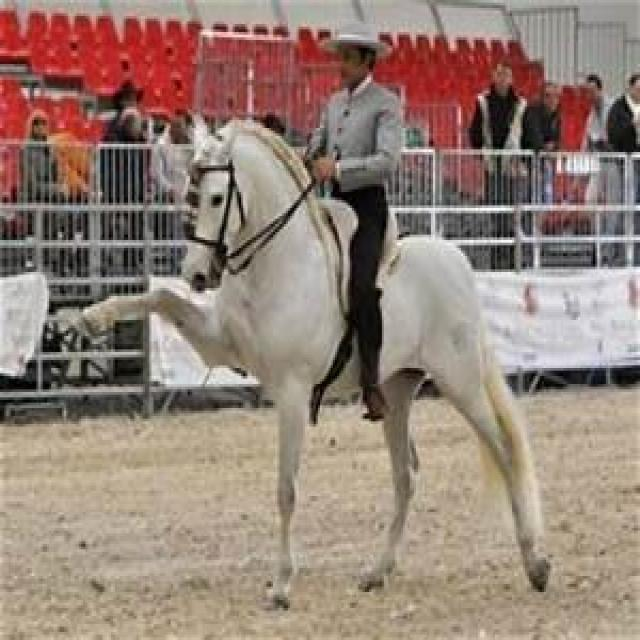horse: (78, 120, 355, 605), (362, 225, 549, 590)
